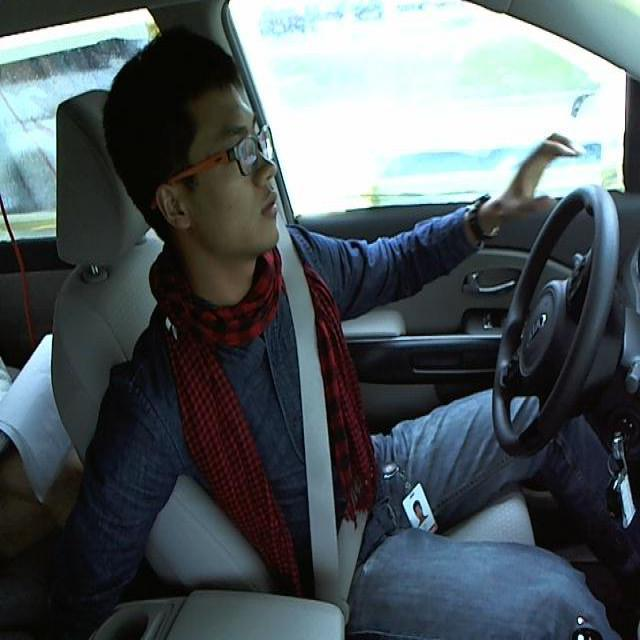seatbelt: (273, 253, 371, 599)
